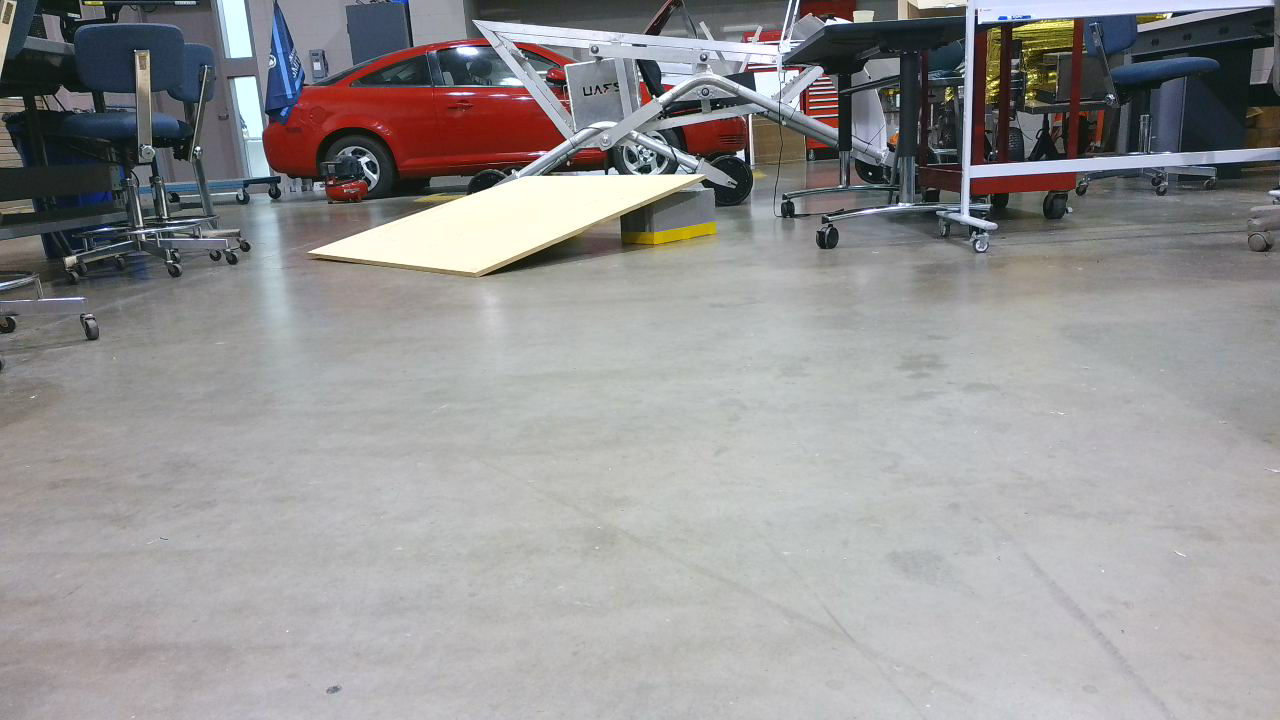concrete_block: (308, 176, 719, 283)
